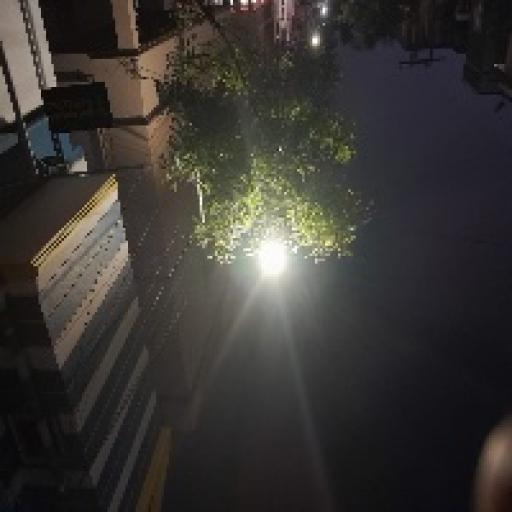Working: (244, 230, 304, 288)
